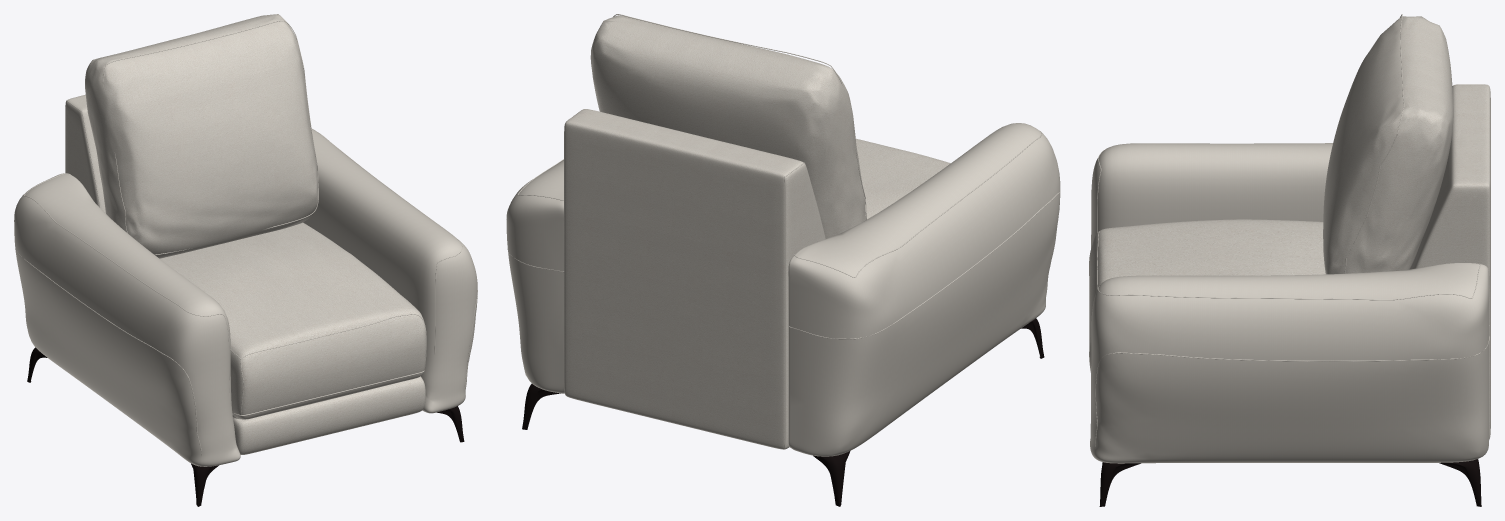
File: meiple.glb
The picture shows the model from 3 angles, left to right: view 1: azimuth 30°, elevation 25°; view 2: azimuth 150°, elevation 25°; view 3: azimuth 270°, elevation 25°; orthographic projection. The views are drawn at different scales.
Parts seen in each view (by area): view 1: object 1, pé; view 2: object 1, pé; view 3: object 1, pé.
Part boxes in pixels (box(x1,y1,x2,y2)): object 1: box(14, 14, 477, 466); pé: box(27, 347, 464, 506); object 1: box(506, 14, 1060, 456); pé: box(522, 318, 1044, 506); object 1: box(1089, 14, 1490, 463); pé: box(1099, 459, 1481, 506).
Bounding box in the file's own units: 1.03 × 1.05 × 1.03.
3 materials, 1 textured.
